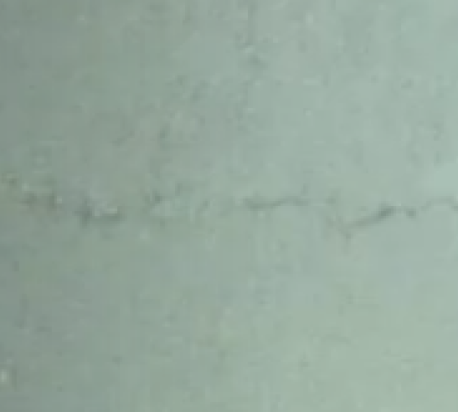Retak Melintang: (1, 133, 458, 273)
